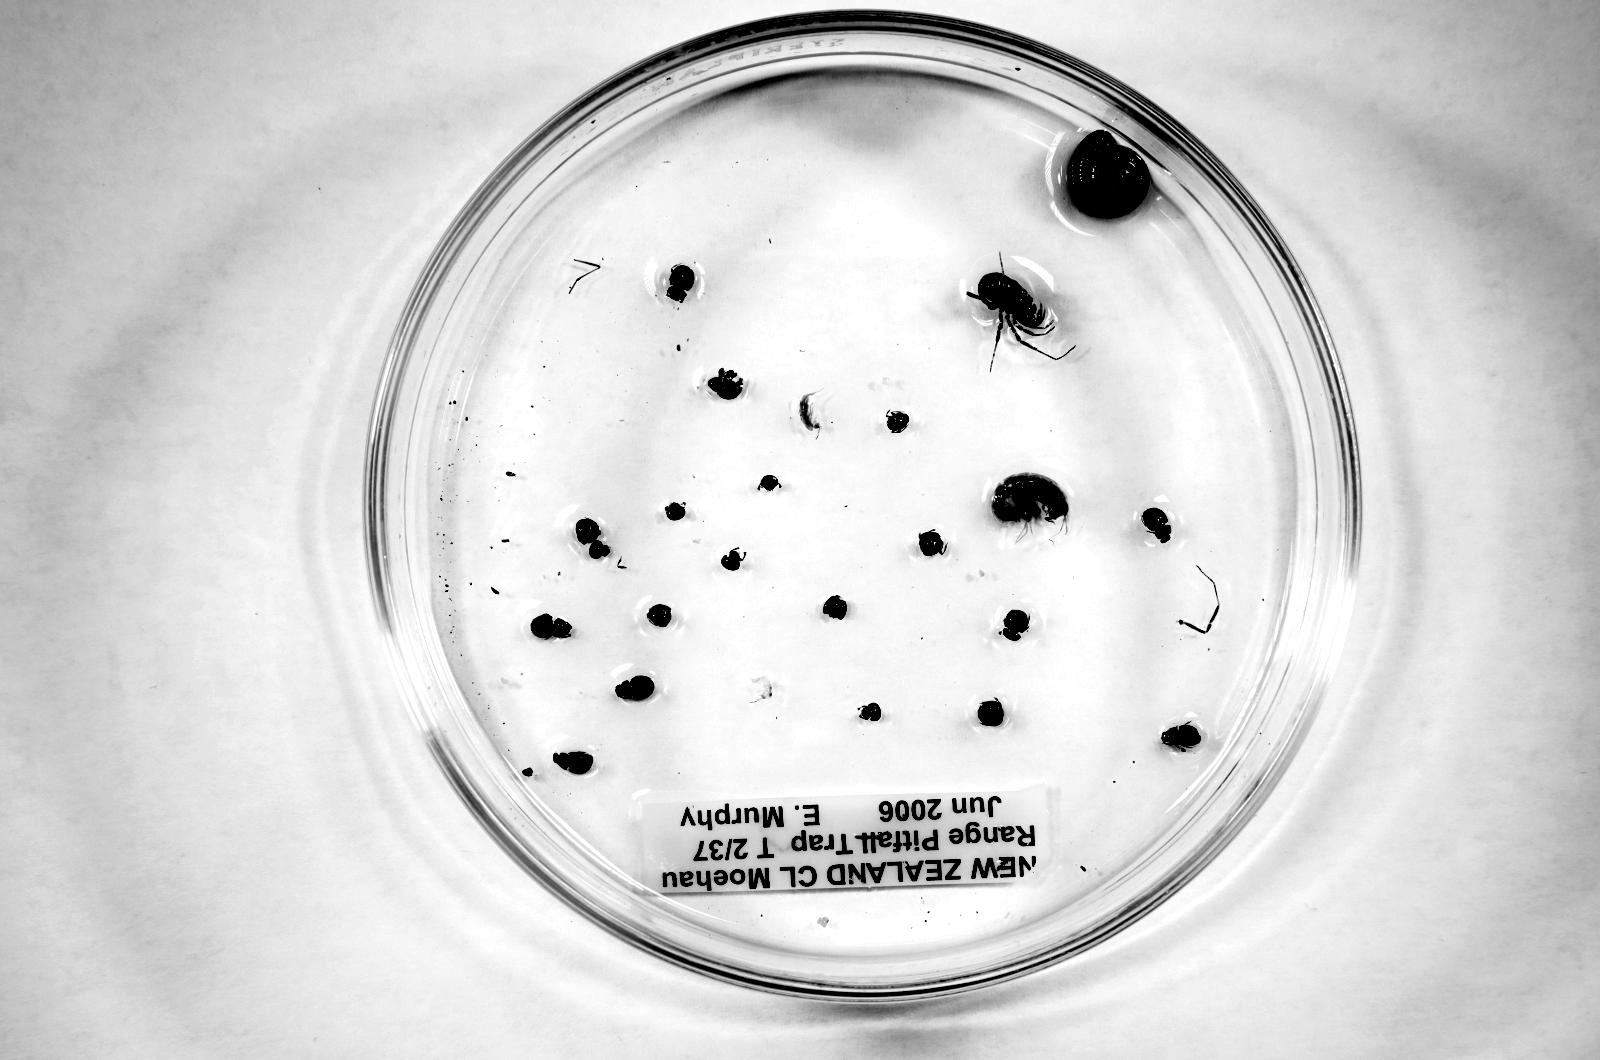amphipoda: (992, 473, 1069, 523)
coleoptera: (666, 265, 697, 303), (707, 368, 743, 400), (1161, 723, 1201, 750), (530, 614, 572, 639), (1142, 508, 1171, 543), (615, 676, 655, 700), (553, 751, 594, 775), (1000, 609, 1029, 641)
collembola: (798, 392, 821, 431)
gastropoda: (1068, 130, 1149, 218)
opiliones: (966, 263, 1056, 355)
